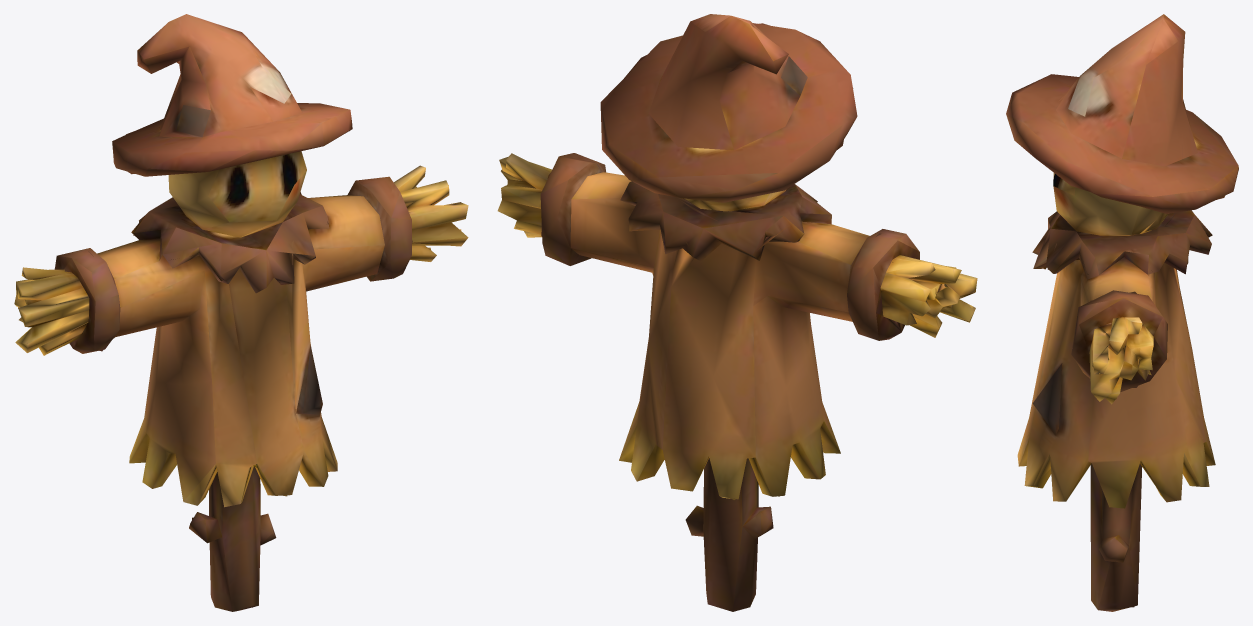
The model's file is lg-scarecrow.glb.
3 views of the same model, side by side, from view 1: azimuth 30°, elevation 25°; view 2: azimuth 150°, elevation 25°; view 3: azimuth 270°, elevation 25° (orthographic). The views are drawn at different scales.
Parts seen in each view (by area): view 1: geometry_0; view 2: geometry_0; view 3: geometry_0.
Part boxes in pixels (x1,y1,x2,y2): geometry_0: (14,14,468,611); geometry_0: (497,14,977,611); geometry_0: (1006,14,1238,611).
Size of the model in its own units: 0.7963 by 1 by 0.3642.
Materials: 1 (1 with a texture image).
